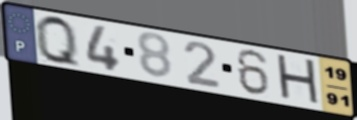2: (182, 40, 223, 90)
4: (83, 24, 122, 73)
6: (235, 48, 272, 97)
8: (134, 31, 178, 82)
H: (274, 52, 323, 109)
Q: (32, 13, 83, 71)
